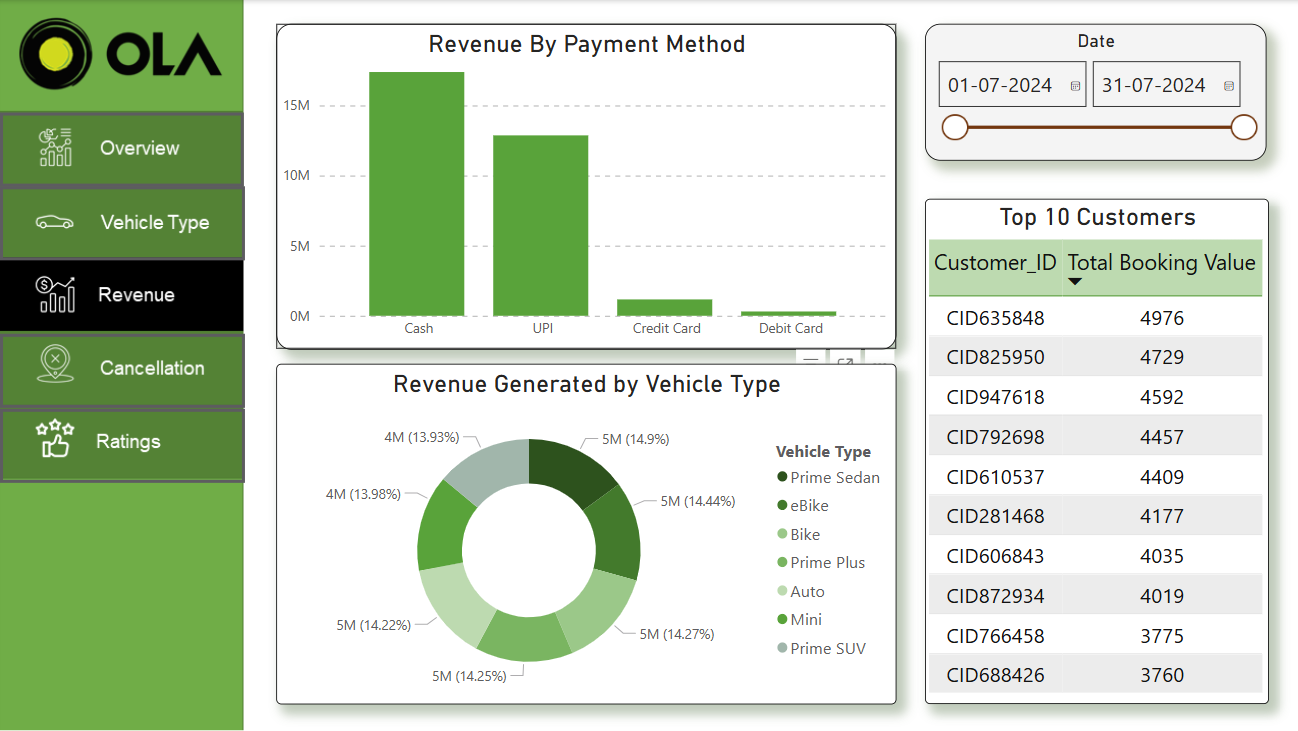

This screenshot's page, from the dashboard's own definition file:
{"tool":"powerbi","page":{"name":"Revenue","canvas":[1280,720],"ordinal":2},"visuals":[{"type":"actionButton","box":[0,182.7,240.5,72.7],"z":0},{"type":"actionButton","box":[0,110,240,73],"z":1000},{"type":"actionButton","box":[0,328.2,240.5,72.7],"z":2000},{"type":"actionButton","box":[0,400.9,240.5,72.7],"z":3000},{"type":"columnChart","title":"Revenue By Payment Method","fields":{"Category":["dataset.Payment_Method"],"Y":["Sum(dataset.Booking_Value)"]},"box":[271.4,22.9,608.6,320],"z":4000},{"type":"tableEx","title":"Top 10 Customers","fields":{"Values":["dataset.Customer_ID","dataset.Total Booking Value"]},"box":[908.2,22.4,337.1,668.2],"z":5000},{"type":"donutChart","title":"Revenue Generated by Vehicle Type","fields":{"Category":["dataset.Vehicle Type"],"Y":["dataset.Total Booking Value"]},"box":[271.4,357.1,608.6,334.3],"z":6000}]}

Visuals, with their boxes in screenshot pixels (x1, y1, x2, y2), scaled from the page's 1280x720 canvas onto the 1298x731 screenshot:
actionButton: bbox(0, 185, 244, 259)
actionButton: bbox(0, 112, 243, 186)
actionButton: bbox(0, 333, 244, 407)
actionButton: bbox(0, 407, 244, 481)
"Revenue By Payment Method" columnChart: bbox(275, 23, 892, 348)
"Top 10 Customers" tableEx: bbox(921, 23, 1263, 701)
"Revenue Generated by Vehicle Type" donutChart: bbox(275, 363, 892, 702)
